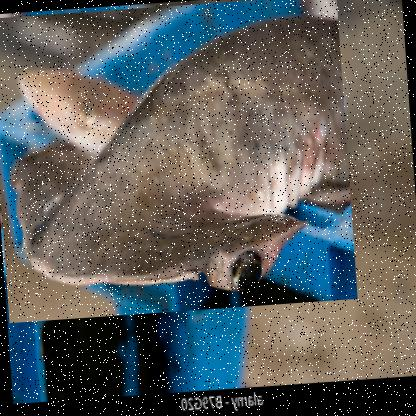hammerhead_Shark: (0, 0, 358, 325)
